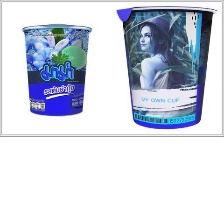paper_cup: (110, 0, 221, 135), (18, 18, 94, 121)
